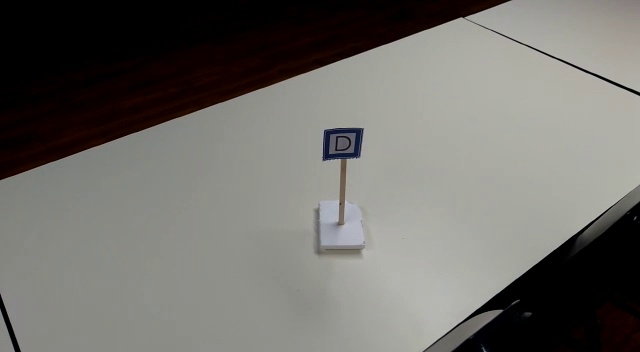durak: (322, 126, 364, 160)
